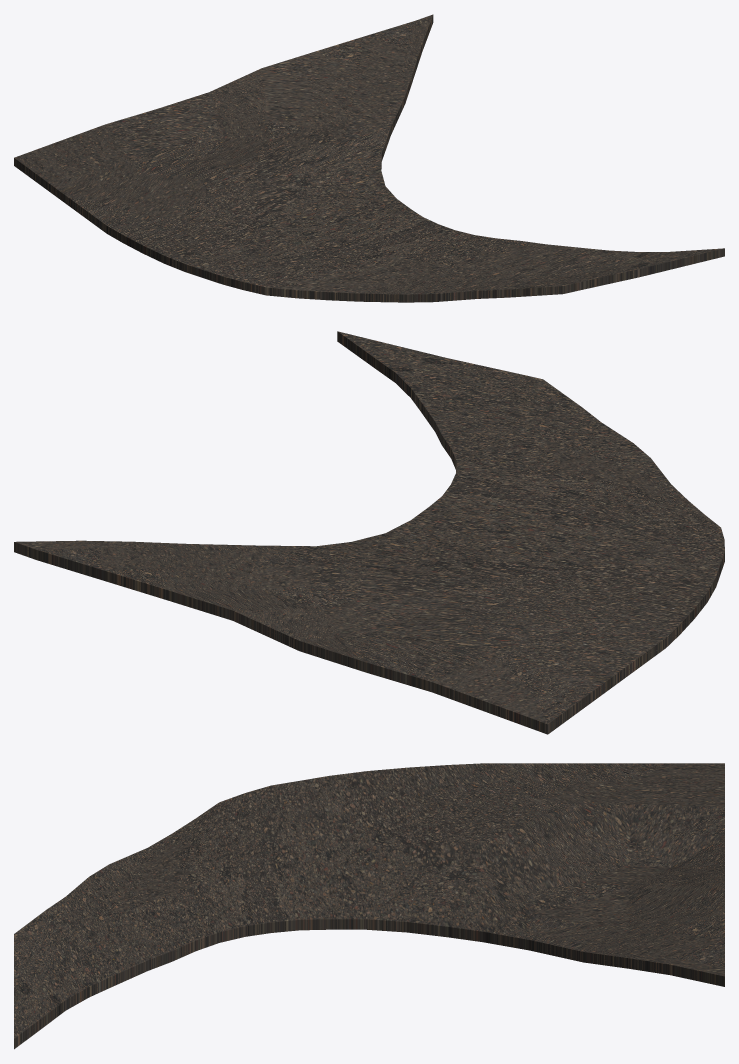
The model's file is Road2.obj.
The picture shows the model from 3 angles, top to bottom: view 1: azimuth 30°, elevation 25°; view 2: azimuth 150°, elevation 25°; view 3: azimuth 270°, elevation 25°; orthographic projection. The views are drawn at different scales.
Parts seen in each view (by area): view 1: Road; view 2: Road; view 3: Road.
Boxes of the visible parts, left/top/right/bottom form: Road: left=14, top=14, right=724, bottom=302; Road: left=14, top=331, right=724, bottom=734; Road: left=14, top=763, right=724, bottom=1049.
Size of the model in its own units: 1.41 by 0.1641 by 1.52.
